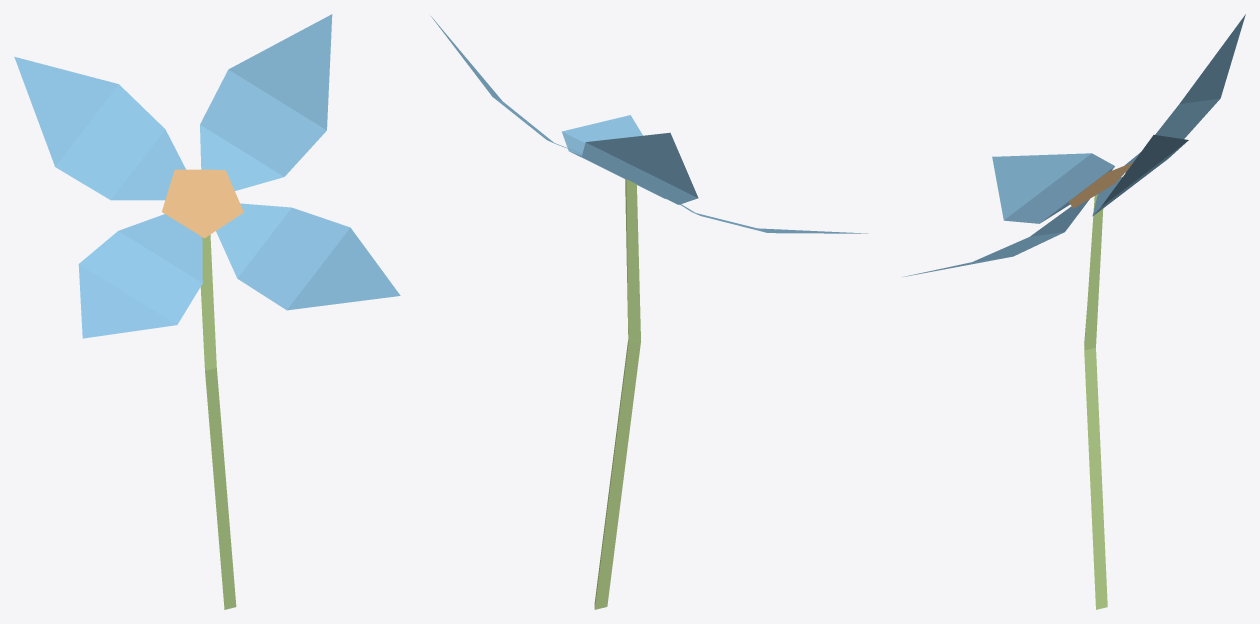
File: Flower_a_TwoS_04.fbx
The picture shows the model from 3 angles, left to right: view 1: azimuth 30°, elevation 25°; view 2: azimuth 150°, elevation 25°; view 3: azimuth 270°, elevation 25°; orthographic projection. The views are drawn at different scales.
Parts seen in each view (by area): view 1: Flower_a_TwoS_04; view 2: Flower_a_TwoS_04; view 3: Flower_a_TwoS_04.
Part boxes in pixels (<box>): Flower_a_TwoS_04: <box>14,14,400,609</box>; Flower_a_TwoS_04: <box>431,16,867,609</box>; Flower_a_TwoS_04: <box>902,14,1245,609</box>.
Size of the model in its own units: 0.4823 by 0.753 by 0.4405.
